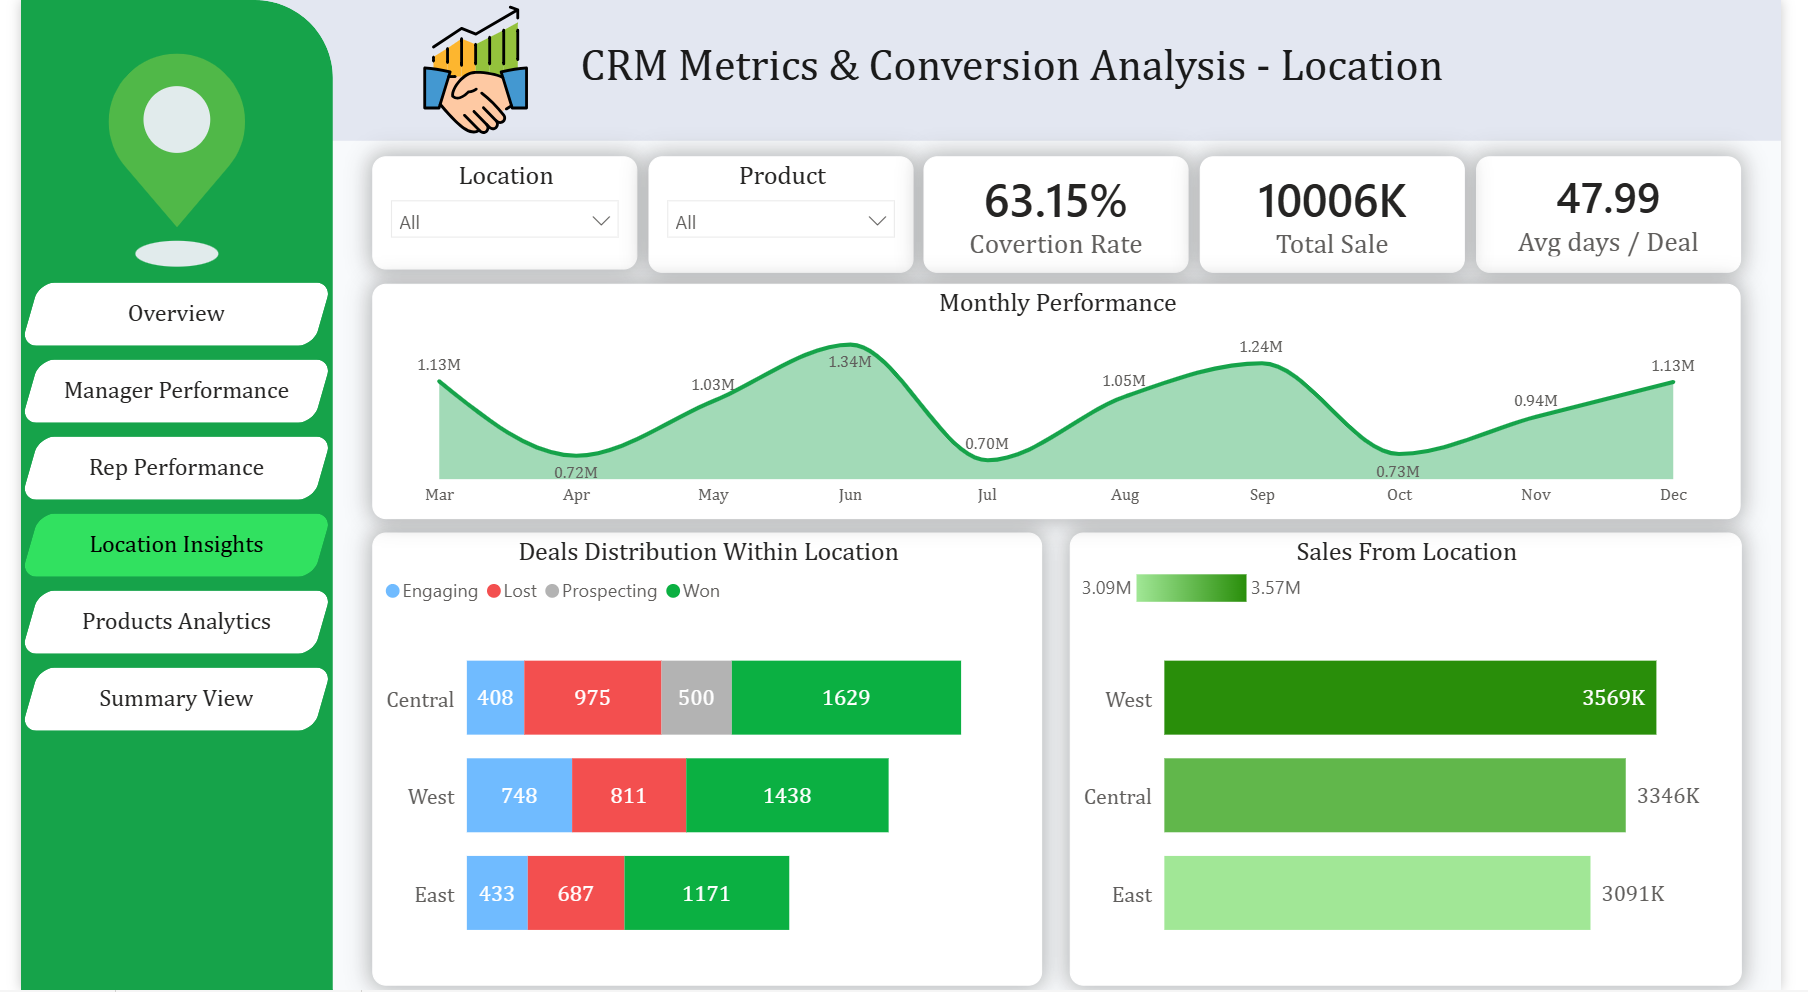

This screenshot's page, from the dashboard's own definition file:
{"tool":"powerbi","page":{"name":"Location Insights","canvas":[1280,720],"ordinal":3},"visuals":[{"type":"shape","box":[0,0,1280,102.5],"z":0},{"type":"shape","box":[0,0,226.8,720.2],"z":1000},{"type":"textbox","box":[401.7,26.5,674.4,63.9],"z":2000},{"type":"image","box":[238.9,3.6,183.4,94.1],"z":3000},{"type":"pageNavigator","box":[0,205.1,226.8,331.8],"z":4000},{"type":"clusteredBarChart","title":"Sales From Location","fields":{"Y":["Measures Table.Total Value"],"Category":["sales_teams.regional_office"]},"box":[762.5,387.3,488.6,329.4],"z":5000},{"type":"barChart","title":"Deals Distribution Within Location","fields":{"Category":["sales_teams.regional_office"],"Series":["sales_pipeline.deal_stage"],"Y":["CountNonNull(sales_pipeline.opportunity_id)"]},"box":[255.8,387.3,487.4,329.4],"z":6000},{"type":"slicer","title":"Location","fields":{"Values":["sales_teams.regional_office"]},"box":[255.6,113.4,193,82],"z":7000},{"type":"slicer","title":"Product","fields":{"Values":["products.product"]},"box":[456.1,113.4,193,85],"z":8000},{"type":"cardVisual","fields":{"Data":["Measures Table.Avg days taken in Deal"]},"box":[1057.8,113.4,193,84.5],"z":9000},{"type":"cardVisual","fields":{"Data":["Measures Table.Covertion Rate"]},"box":[656.7,113.4,193,85],"z":10000},{"type":"cardVisual","fields":{"Data":["Sum(sales_pipeline.close_value)"]},"box":[857.3,113.4,193,85],"z":11000},{"type":"areaChart","title":"Monthly Performance","fields":{"Category":["Calender.Month"],"Y":["Measures Table.Total Value"]},"box":[255.6,206.3,995.3,171.3],"z":12000},{"type":"image","box":[25.3,38.6,176.1,156.8],"z":13000}]}

Visuals, with their boxes in screenshot pixels (x1, y1, x2, y2), scaled from the page's 1280x720 canvas onto the 1808x992 screenshot:
shape: 0,0,1807,141
shape: 0,0,320,991
textbox: 567,37,1520,125
image: 337,5,596,135
pageNavigator: 0,283,320,740
"Sales From Location" clusteredBarChart: 1077,534,1767,987
"Deals Distribution Within Location" barChart: 361,534,1050,987
"Location" slicer: 361,156,634,269
"Product" slicer: 644,156,917,273
cardVisual - Measures Table.Avg days taken in Deal: 1494,156,1767,273
cardVisual - Measures Table.Covertion Rate: 928,156,1200,273
cardVisual - Sum(sales_pipeline.close_value): 1211,156,1484,273
"Monthly Performance" areaChart: 361,284,1767,520
image: 36,53,284,269
